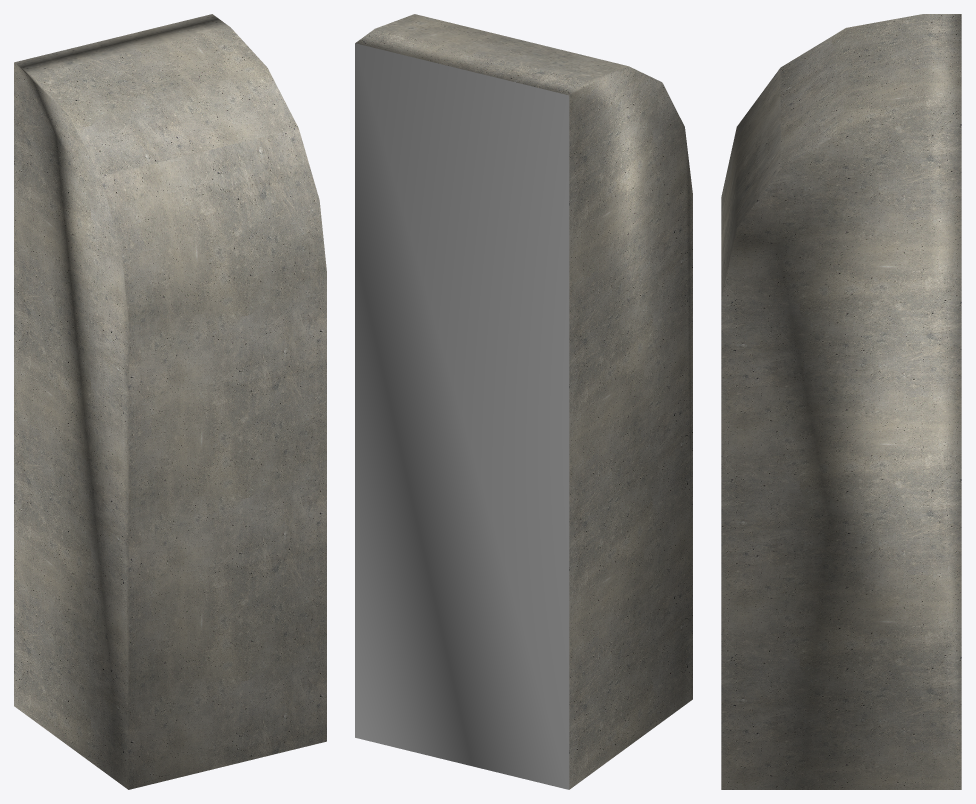
Rendered from concrete_block.DAE.
The picture shows the model from 3 angles, left to right: view 1: azimuth 30°, elevation 25°; view 2: azimuth 150°, elevation 25°; view 3: azimuth 270°, elevation 25°; orthographic projection. The views are drawn at different scales.
Parts seen in each view (by area): view 1: adventureplaygound01a; view 2: adventureplaygound01a; view 3: adventureplaygound01a.
Boxes of the visible parts, <box> form: adventureplaygound01a: <box>14,14,326,789</box>; adventureplaygound01a: <box>355,14,692,789</box>; adventureplaygound01a: <box>721,14,961,789</box>.
Size of the model in its own units: 78.74 by 244 by 78.74.
